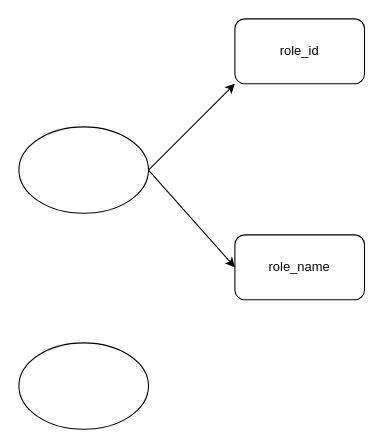
This 383x448 diagram has some shape labels left out. The centre of each missing label's shape, as x and y in pixels:
"Courses" belongs at point (83, 385).
"Roles" belongs at point (83, 169).
